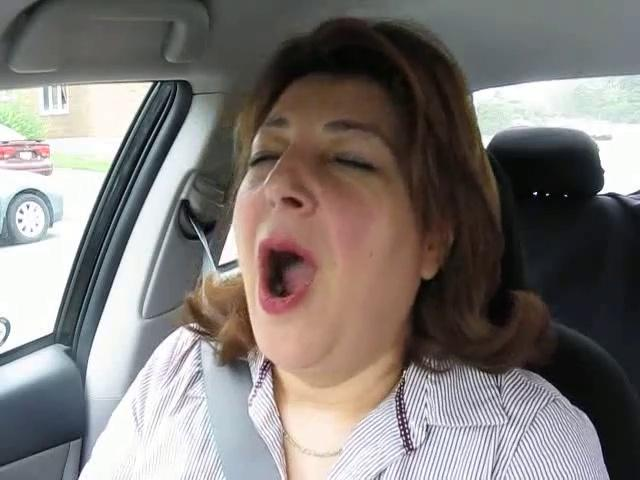close_eyeL: (229, 140, 288, 181)
close_eyeR: (307, 142, 389, 189)
yawn: (229, 231, 336, 324)
